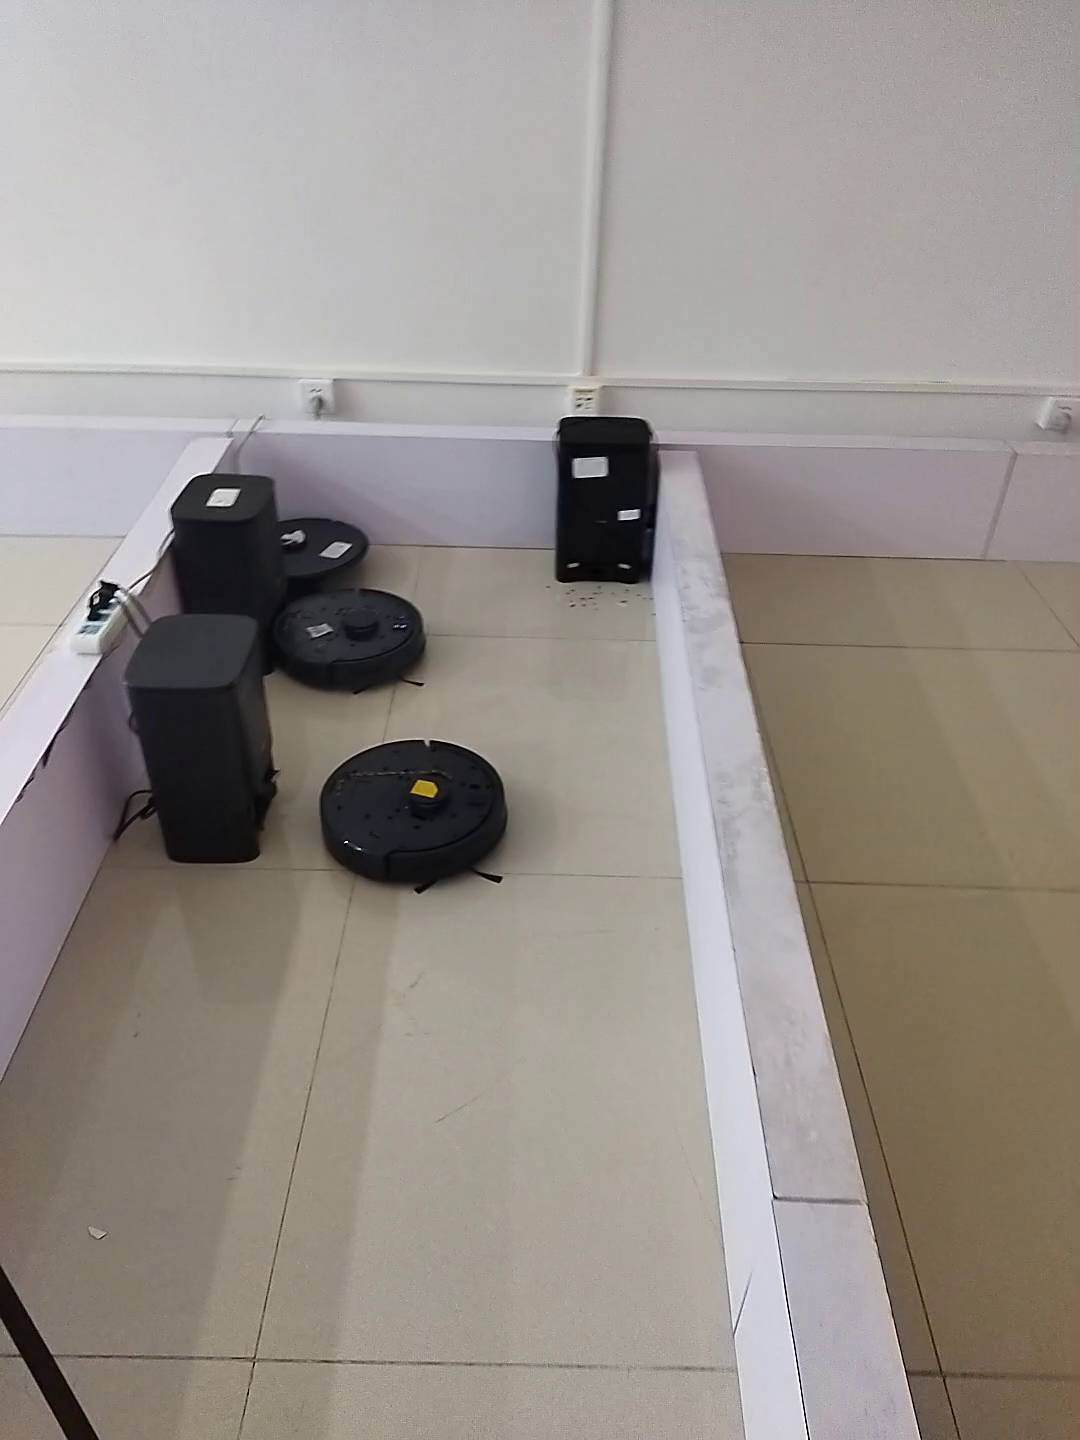dust collecting barrel: (126, 615, 277, 861), (170, 474, 285, 671), (557, 415, 660, 584)
